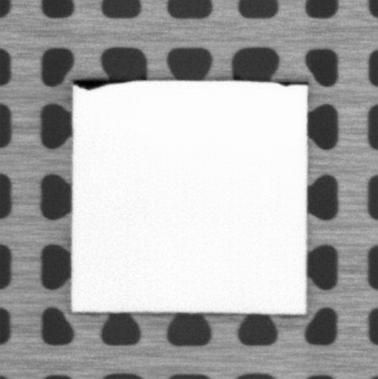DIE_BROKEN: (70, 78, 118, 91)
